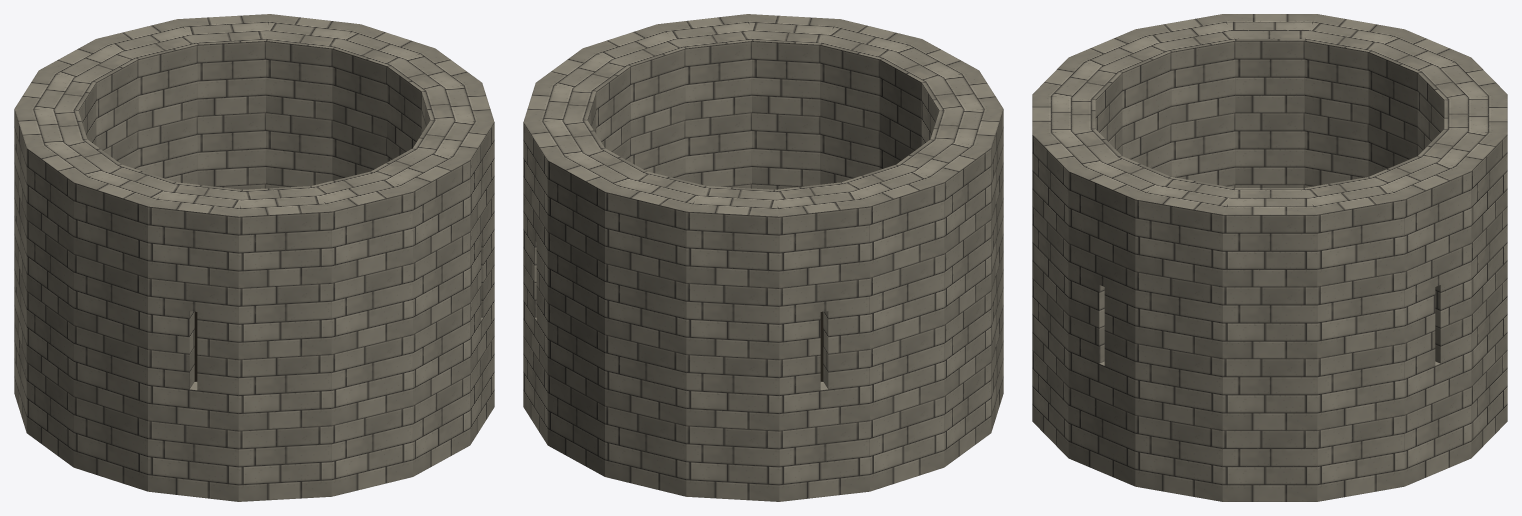
File: tower_cs_round_upper.obj
3 renders of one model, left to right at view 1: azimuth 30°, elevation 25°; view 2: azimuth 150°, elevation 25°; view 3: azimuth 270°, elevation 25°, orthographic.
Parts seen in each view (by area): view 1: tower_cs_round_upper_wall11, tower_cs_round_upper_wall10, tower_cs_round_upper_wall12, tower_cs_round_upper_wall09, tower_cs_round_upper_wall13, tower_cs_round_upper_wall08, tower_cs_round_upper_wall03, tower_cs_round_upper_wall02, tower_cs_round_upper_wall04, tower_cs_round_upper_wall14, tower_cs_round_upper_wall01, tower_cs_round_upper_wall05 (+4 smaller); view 2: tower_cs_round_upper_wall05, tower_cs_round_upper_wall06, tower_cs_round_upper_wall04, tower_cs_round_upper_wall07, tower_cs_round_upper_wall03, tower_cs_round_upper_wall08, tower_cs_round_upper_wall13, tower_cs_round_upper_wall14, tower_cs_round_upper_wall12, tower_cs_round_upper_wall02, tower_cs_round_upper_wall15, tower_cs_round_upper_wall11 (+4 smaller); view 3: tower_cs_round_upper_wall00, tower_cs_round_upper_wall01, tower_cs_round_upper_wall15, tower_cs_round_upper_wall02, tower_cs_round_upper_wall14, tower_cs_round_upper_wall03, tower_cs_round_upper_wall13, tower_cs_round_upper_wall08, tower_cs_round_upper_wall07, tower_cs_round_upper_wall09, tower_cs_round_upper_wall06, tower_cs_round_upper_wall10 (+4 smaller).
Boxes of the visible parts, box(x1,y1,x2,y2) form: tower_cs_round_upper_wall11: box(238, 186, 331, 501); tower_cs_round_upper_wall10: box(148, 182, 242, 501); tower_cs_round_upper_wall12: box(311, 171, 412, 496); tower_cs_round_upper_wall09: box(73, 164, 175, 491); tower_cs_round_upper_wall13: box(371, 148, 470, 476); tower_cs_round_upper_wall08: box(26, 139, 121, 467); tower_cs_round_upper_wall03: box(177, 14, 269, 189); tower_cs_round_upper_wall02: box(266, 14, 360, 188); tower_cs_round_upper_wall04: box(96, 19, 197, 184); tower_cs_round_upper_wall14: box(413, 120, 494, 444); tower_cs_round_upper_wall01: box(332, 24, 434, 180); tower_cs_round_upper_wall05: box(39, 39, 138, 169); tower_cs_round_upper_wall05: box(686, 186, 779, 501); tower_cs_round_upper_wall06: box(775, 182, 869, 501); tower_cs_round_upper_wall04: box(605, 171, 706, 496); tower_cs_round_upper_wall07: box(842, 164, 944, 491); tower_cs_round_upper_wall03: box(547, 148, 646, 476); tower_cs_round_upper_wall08: box(896, 139, 991, 467); tower_cs_round_upper_wall13: box(748, 14, 840, 189); tower_cs_round_upper_wall14: box(657, 14, 751, 188); tower_cs_round_upper_wall12: box(820, 19, 921, 184); tower_cs_round_upper_wall02: box(523, 120, 604, 444); tower_cs_round_upper_wall15: box(583, 24, 685, 180); tower_cs_round_upper_wall11: box(879, 39, 978, 169); tower_cs_round_upper_wall00: box(1222, 188, 1317, 501); tower_cs_round_upper_wall01: box(1305, 177, 1404, 501); tower_cs_round_upper_wall15: box(1135, 177, 1234, 501); tower_cs_round_upper_wall02: box(1369, 156, 1471, 486); tower_cs_round_upper_wall14: box(1068, 156, 1170, 486); tower_cs_round_upper_wall03: box(1418, 129, 1507, 457); tower_cs_round_upper_wall13: box(1032, 129, 1121, 457); tower_cs_round_upper_wall08: box(1223, 14, 1316, 187); tower_cs_round_upper_wall07: box(1304, 14, 1403, 187); tower_cs_round_upper_wall09: box(1136, 14, 1235, 187); tower_cs_round_upper_wall06: box(1368, 29, 1470, 176); tower_cs_round_upper_wall10: box(1069, 29, 1171, 176).
Size of the model in its own units: 6 by 4.17 by 6.
Materials: 1 (1 with a texture image).
